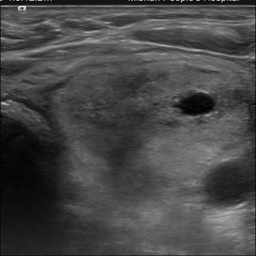mass: (56, 64, 250, 183)
